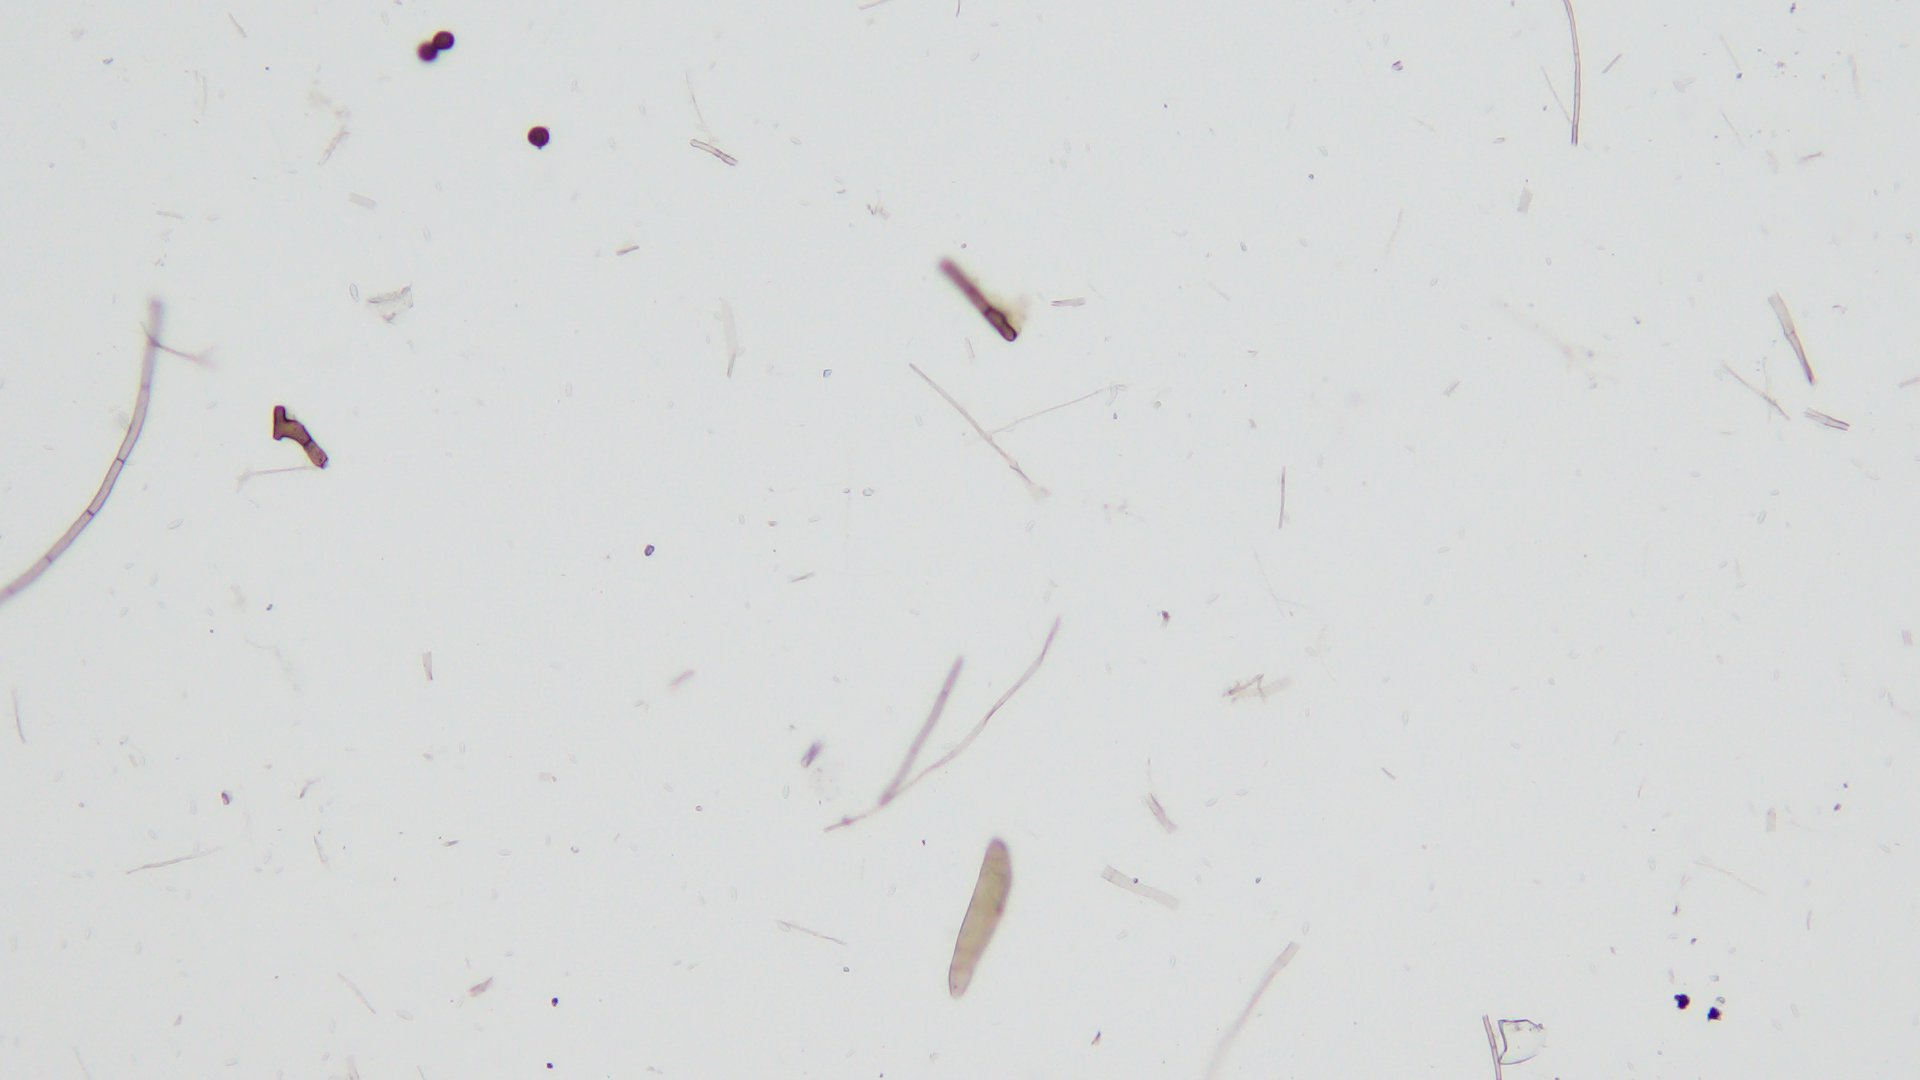dbb_spore: (945, 836, 1009, 1000)
shs_spore: (527, 125, 553, 146), (433, 32, 456, 51), (417, 41, 436, 63)
